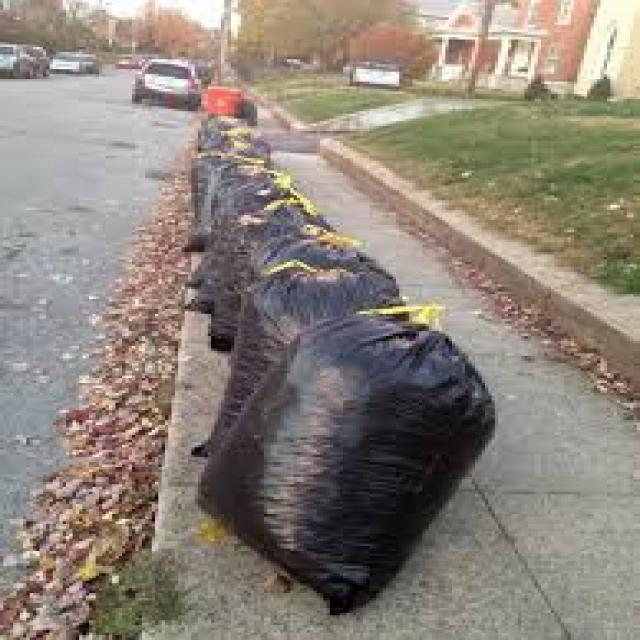garbage: (182, 114, 506, 610)
